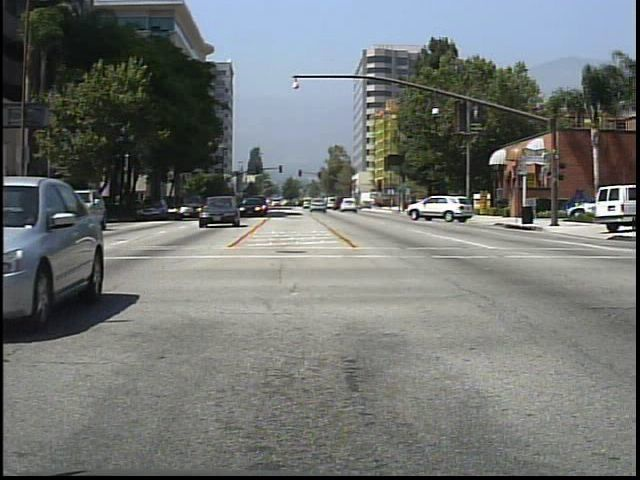person: (446, 188, 462, 220), (424, 188, 442, 215)
